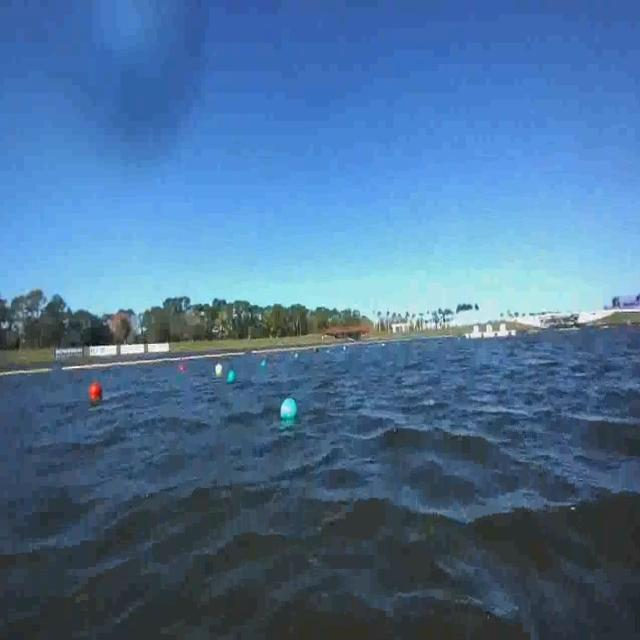green-buoy: (281, 399, 298, 422), (226, 369, 236, 383)
red-buoy: (90, 383, 105, 403)
yellow-buoy: (215, 362, 223, 376)
